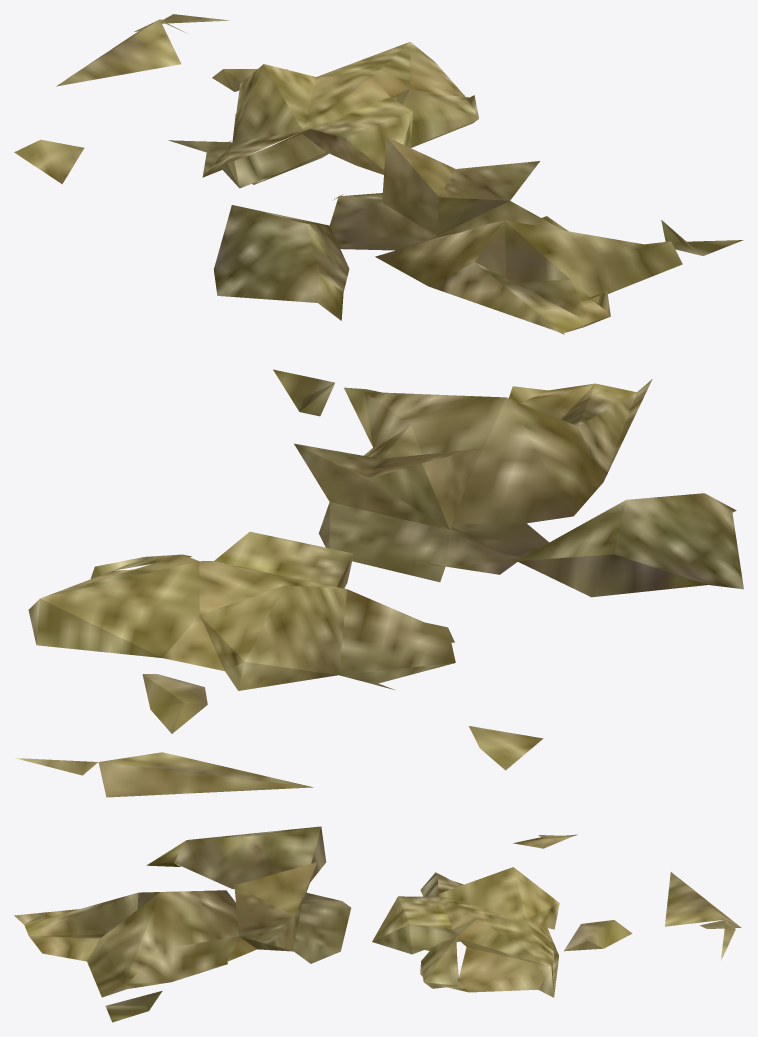
3 renders of one model, top to bottom at view 1: azimuth 30°, elevation 25°; view 2: azimuth 150°, elevation 25°; view 3: azimuth 270°, elevation 25°, orthographic. The views are drawn at different scales.
Visible parts, largest first — view 1: Mesh_0; view 2: Mesh_0; view 3: Mesh_0.
Boxes of the visible parts, x1=… form: Mesh_0: x1=14, y1=14, x2=743, y2=334; Mesh_0: x1=15, y1=369, x2=743, y2=797; Mesh_0: x1=14, y1=826, x2=741, y2=1022.
Size of the model in its own units: 9.41 by 1.65 by 15.33.
Materials: 1 (1 with a texture image).
